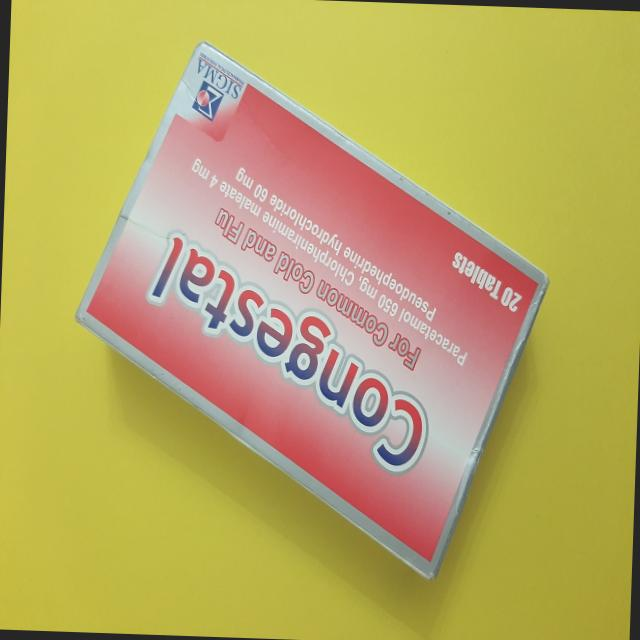medicine_packaging: (54, 20, 566, 612)
